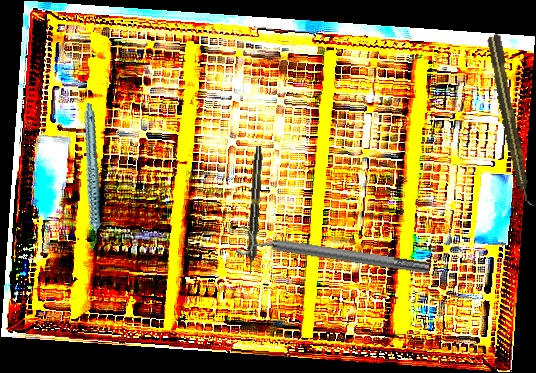Fixation Ring: (235, 224, 432, 285)
Handpiece: (58, 102, 124, 252), (485, 33, 535, 209), (244, 145, 265, 275)
